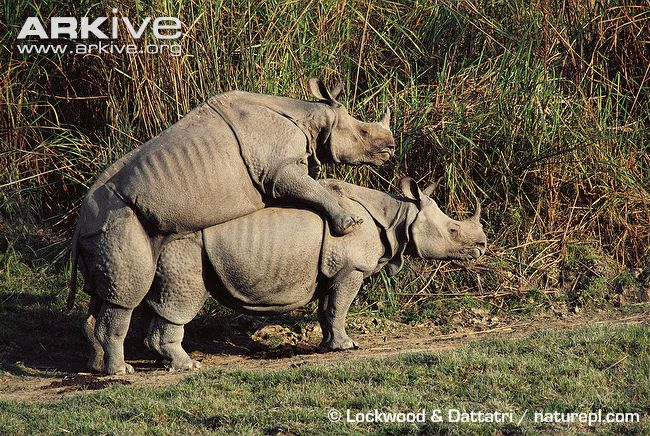rhinoceros: (68, 79, 393, 385), (146, 163, 494, 364)
